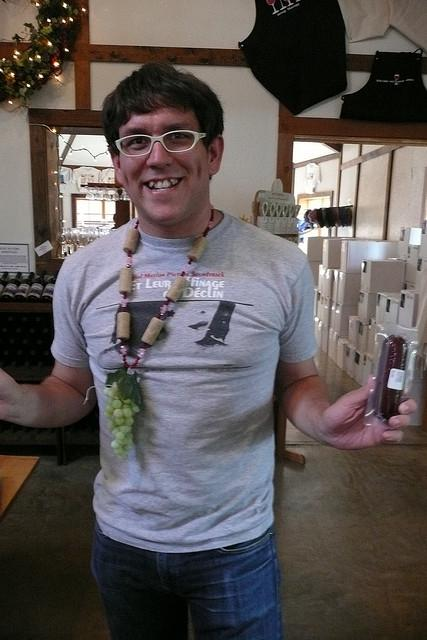grape: (103, 368, 145, 460), (124, 416, 134, 426)
